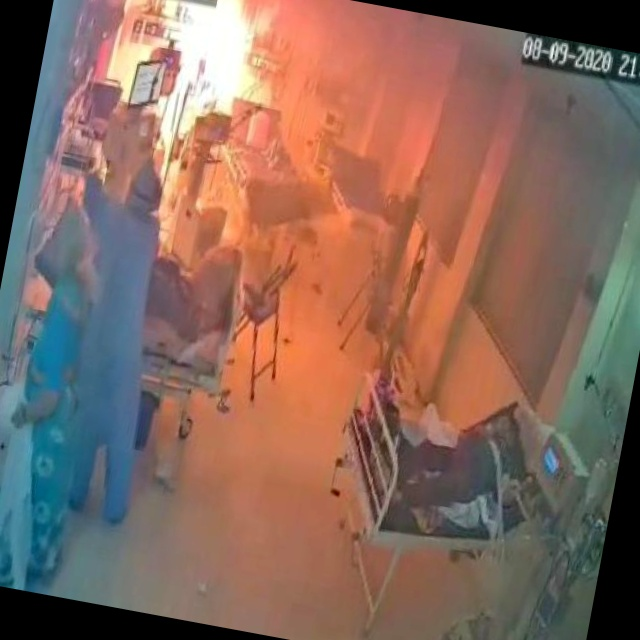fire: (121, 0, 315, 181)
